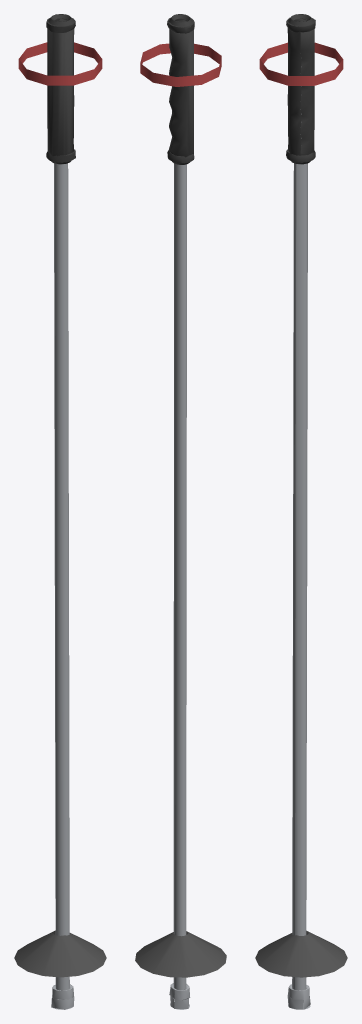
File: pole.glb
3 views of the same model, side by side, from view 1: azimuth 90°, elevation 25°; view 2: azimuth 210°, elevation 25°; view 3: azimuth 270°, elevation 25° (orthographic).
Visible parts, largest first — view 1: pole; view 2: pole; view 3: pole.
Part boxes in pixels (bbox=[...]): pole: bbox=[14, 14, 106, 1009]; pole: bbox=[135, 14, 226, 1009]; pole: bbox=[255, 14, 347, 1009].
Bounding box in the file's own units: 0.1 × 1.18 × 0.1.
